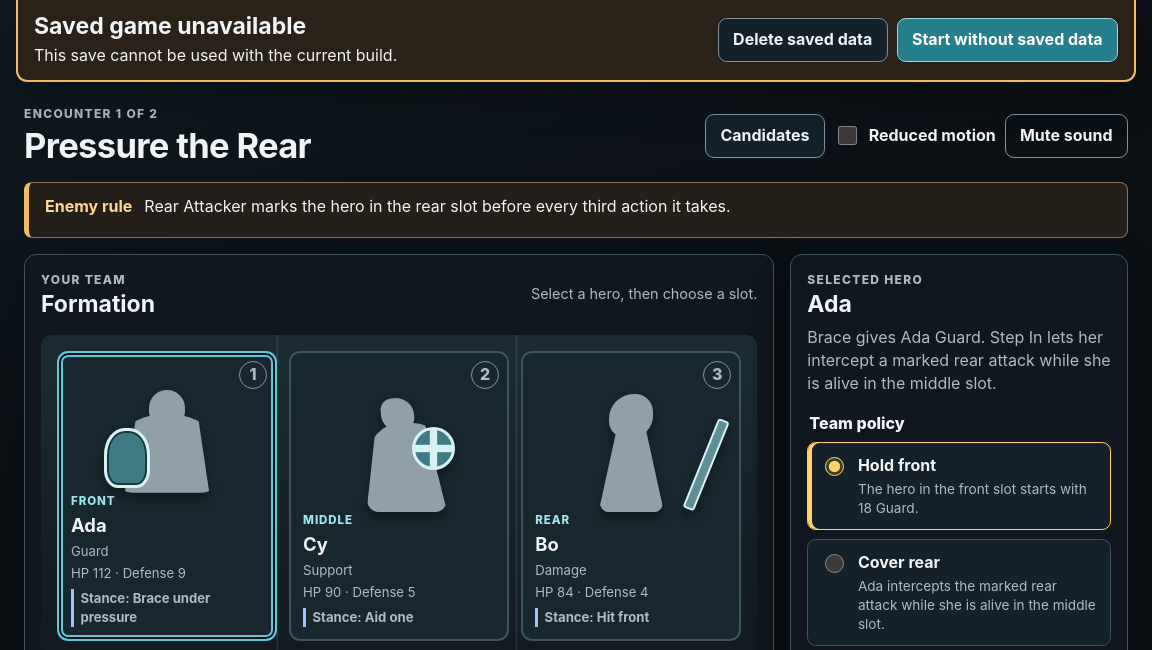
Test: combat lab journey › can continue clean after incompatible saved data
This screenshot has width=1152, height=650.
Expected: the message shows "current build", [34, 45, 397, 65]
Step 1. Click the button "Start without saved data" → [1007, 40], box [896, 18, 1118, 62]
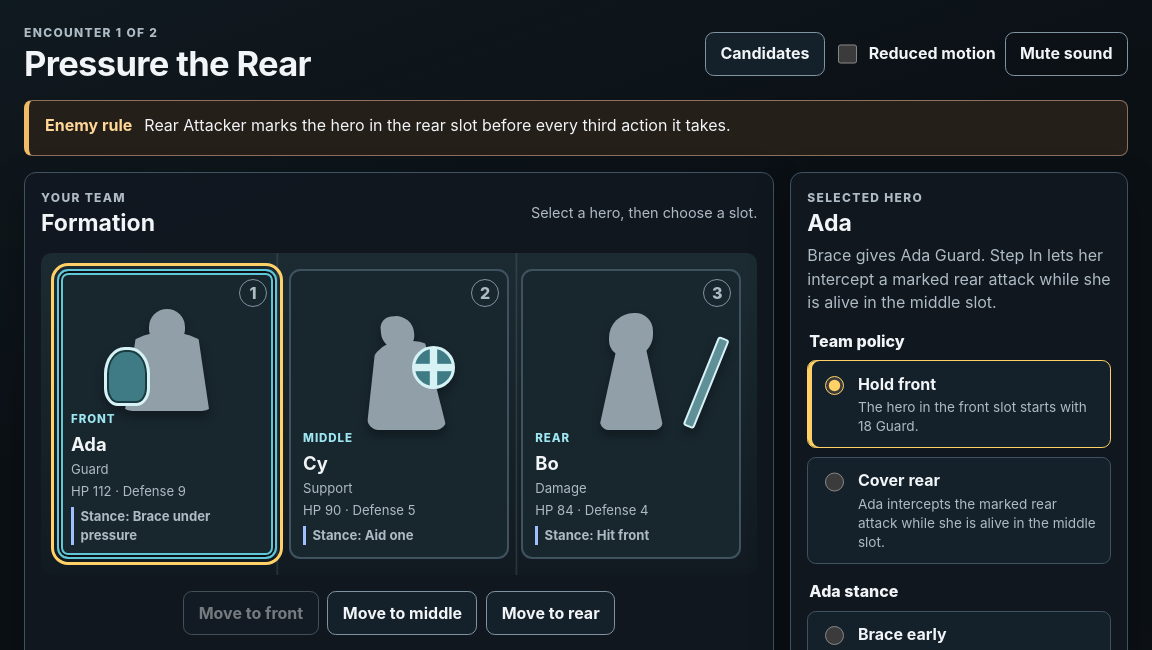
Now the message is gone
